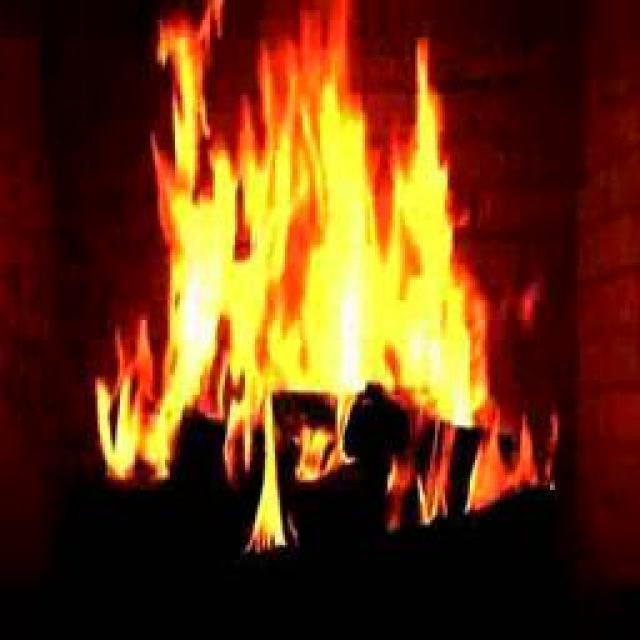Fire: (137, 25, 514, 446)
